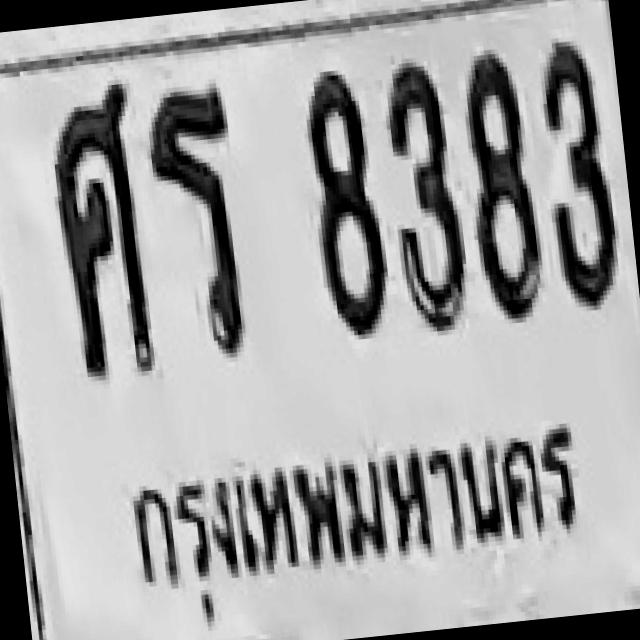3: (378, 54, 470, 330), (532, 34, 624, 309)
44RorRuea: (140, 82, 251, 364)
47SorSala: (45, 83, 156, 369), (52, 158, 158, 380), (44, 80, 148, 284)
8: (298, 64, 394, 340), (455, 49, 547, 324)
Bangkok: (105, 401, 592, 640)
